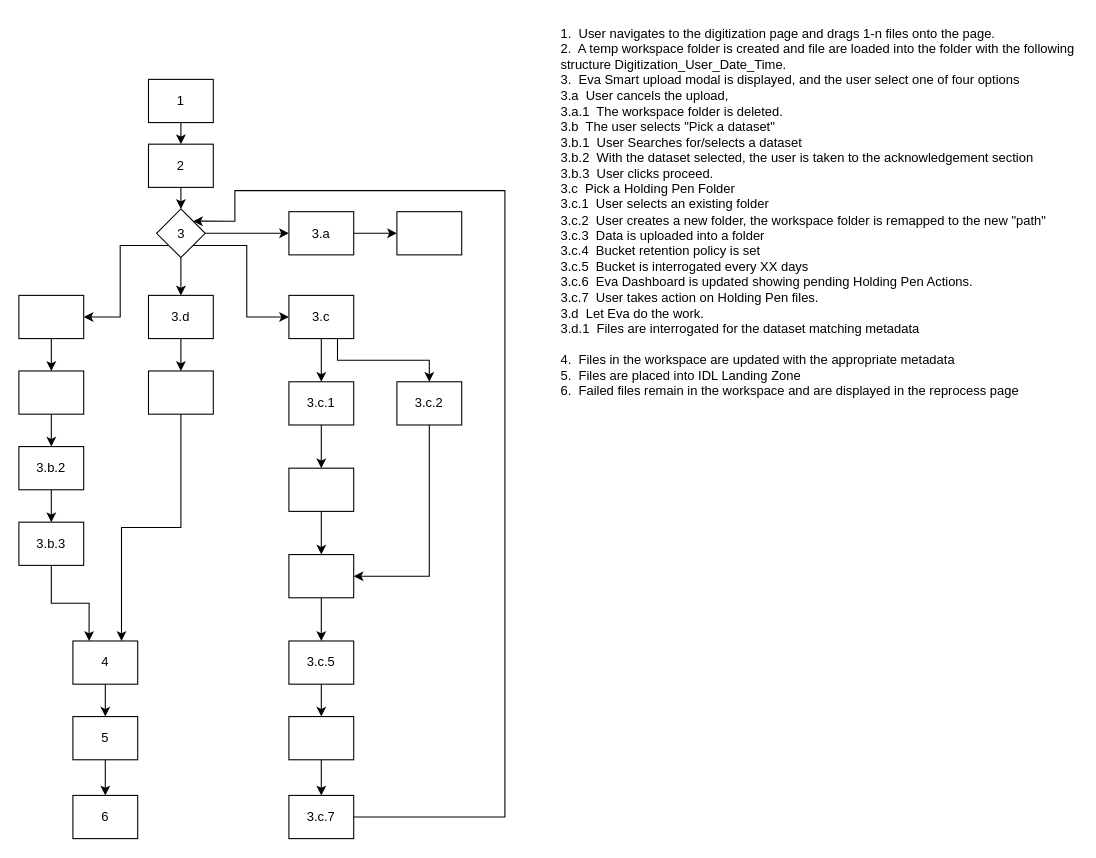
Image size: 1096x858. Some labels were removed from this diagram. The shapes that lost their labels are listed below. From the top down, each one's centre as x and y in pixels, then its label:
At (429,233): "3.a.1".
At (51,316): "3.b".
At (51,392): "3.b.1".
At (180,392): "3.d.1".
At (321,489): "3.c.3".
At (321,576): "3.c.4".
At (321,738): "3.c.6".
